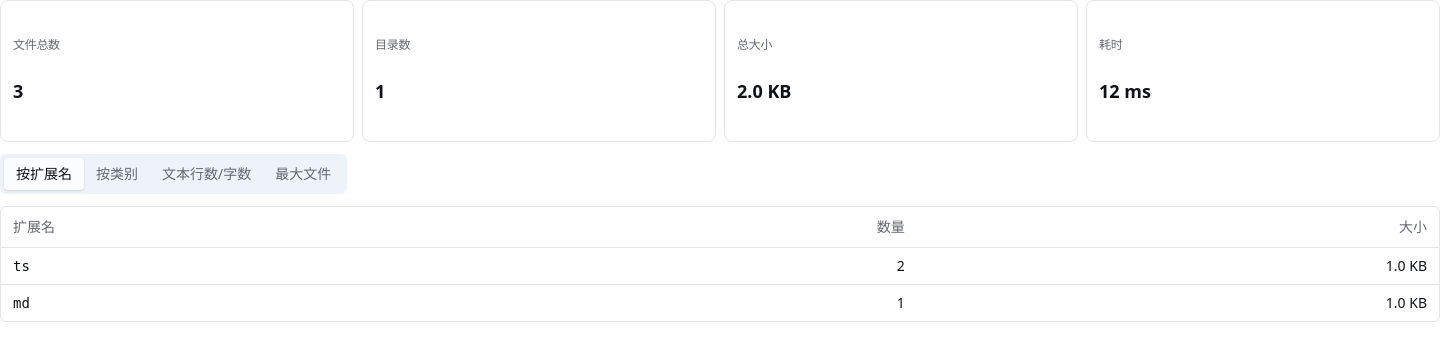
Test: ScanResultsPanel › switches to text metrics table and largest files table
The width and height of the screenshot is (1440, 339).
Click the tab with test id "scan-tab-text" at [207, 174], box [150, 158, 263, 190]
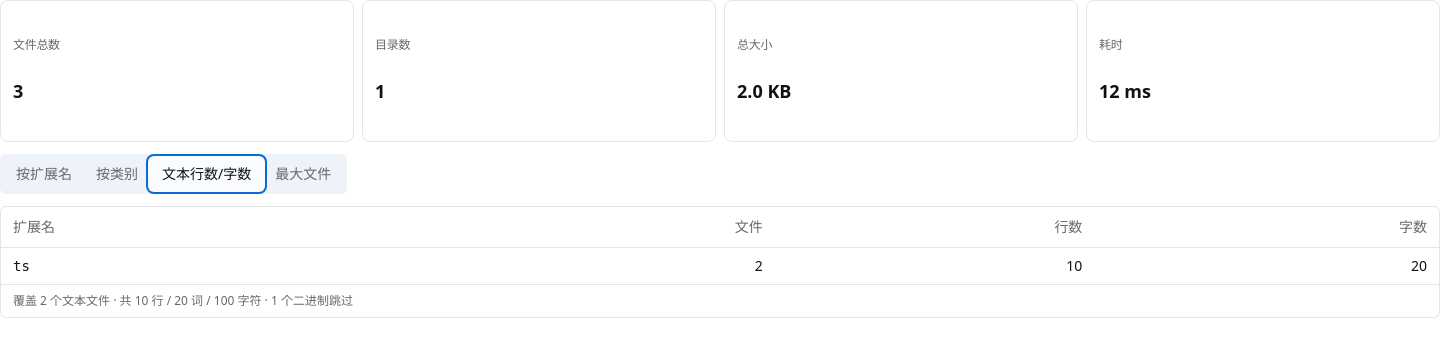
Expected: the row with test id "scan-text-row-ts" is shown, [1, 247, 1439, 284]
Expected: the element with test id "scan-table-wrap" shows "覆盖 2 个文本文件", [13, 292, 262, 308]
Click the tab with test id "scan-tab-largest" at [303, 174], box [263, 158, 343, 190]
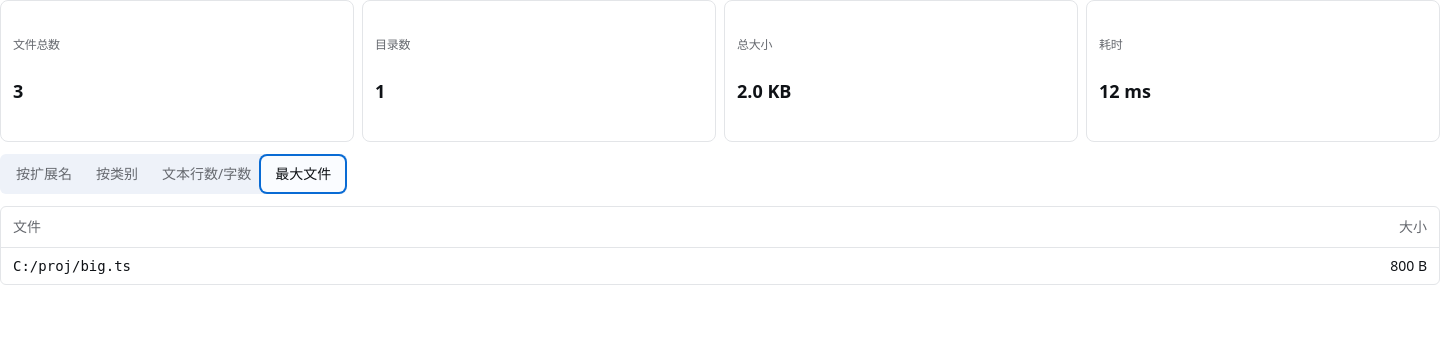
Expected: the row with test id "scan-largest-row" shows "big.ts", [13, 258, 131, 274]
